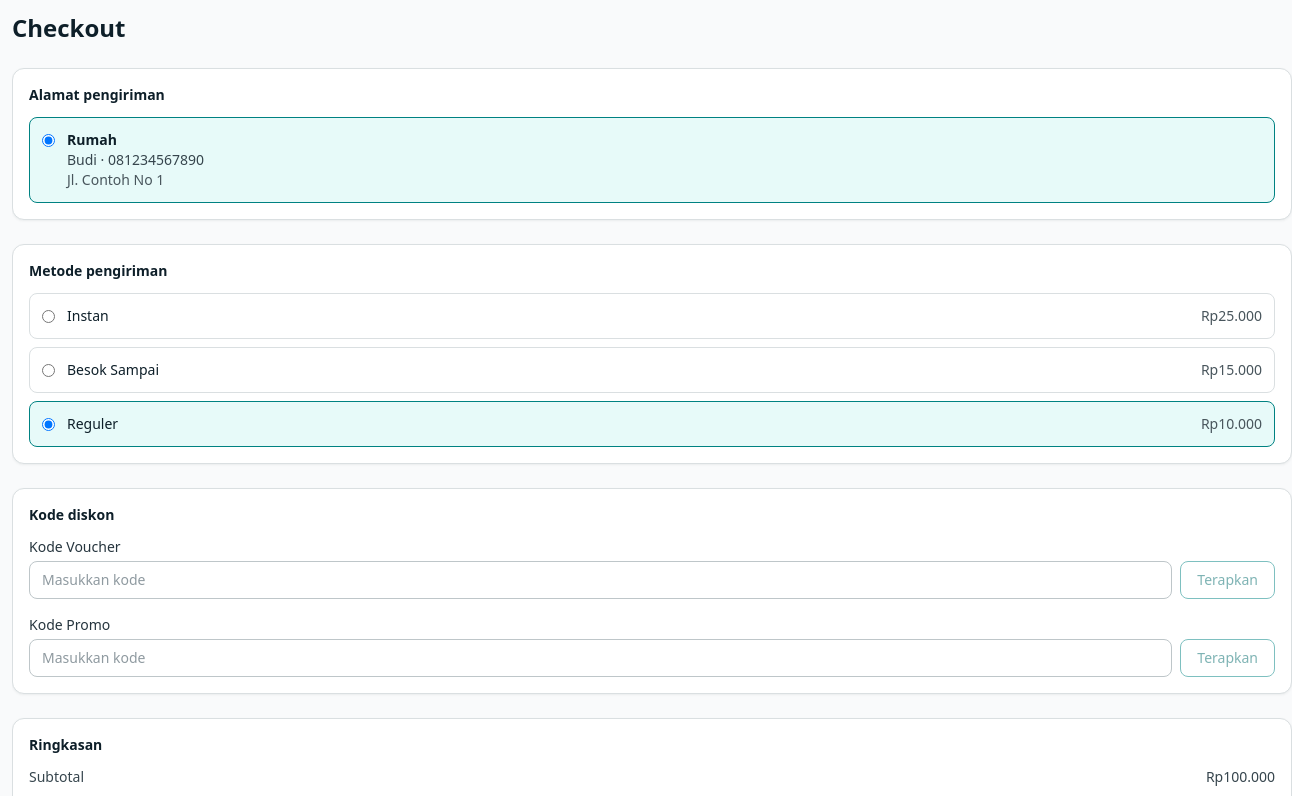
Checkout discount code apply flow › applying a valid voucher shows its effect and passes voucherCode to the preview
Type "hemat10" into the field labelled "Kode Voucher" at [601, 580], box x1=29 y1=561 x2=1172 y2=599
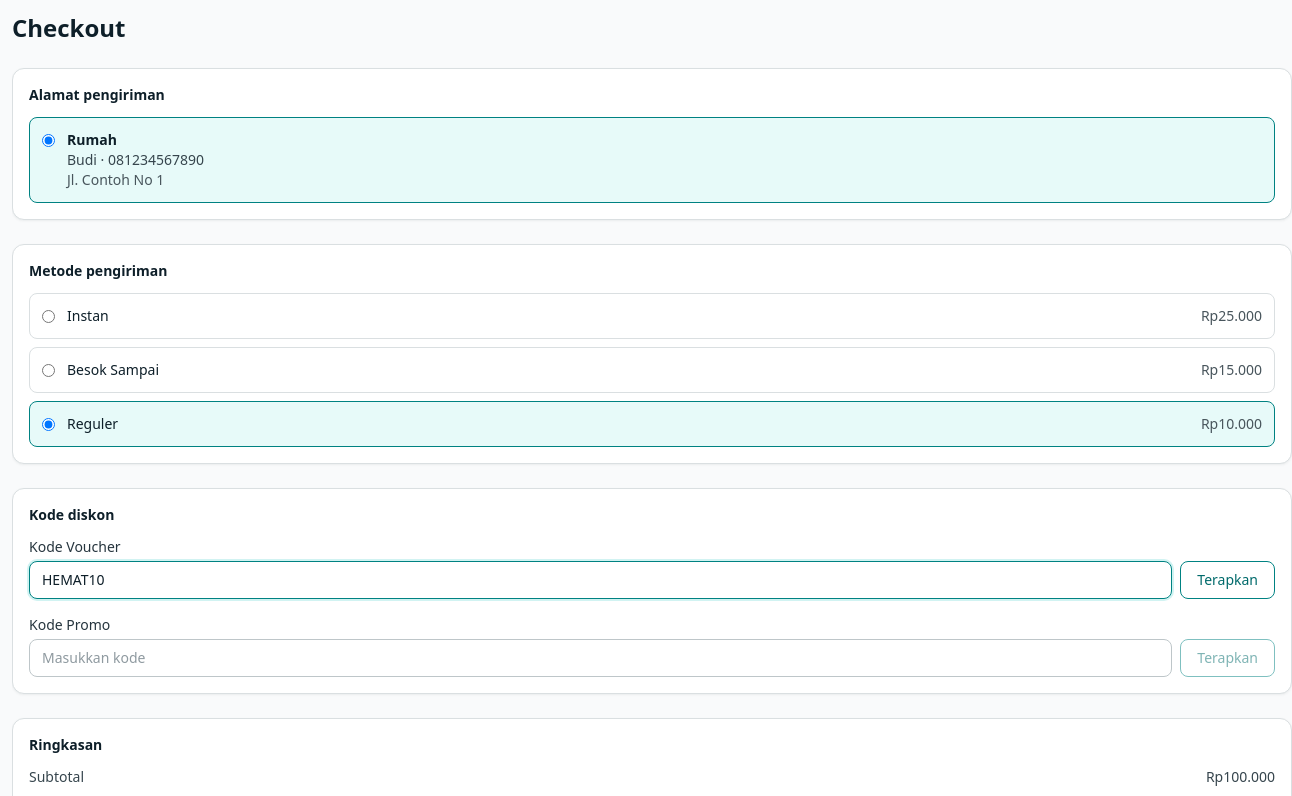
Click the 1st button "Terapkan" at [1228, 580], box x1=1180 y1=561 x2=1275 y2=599
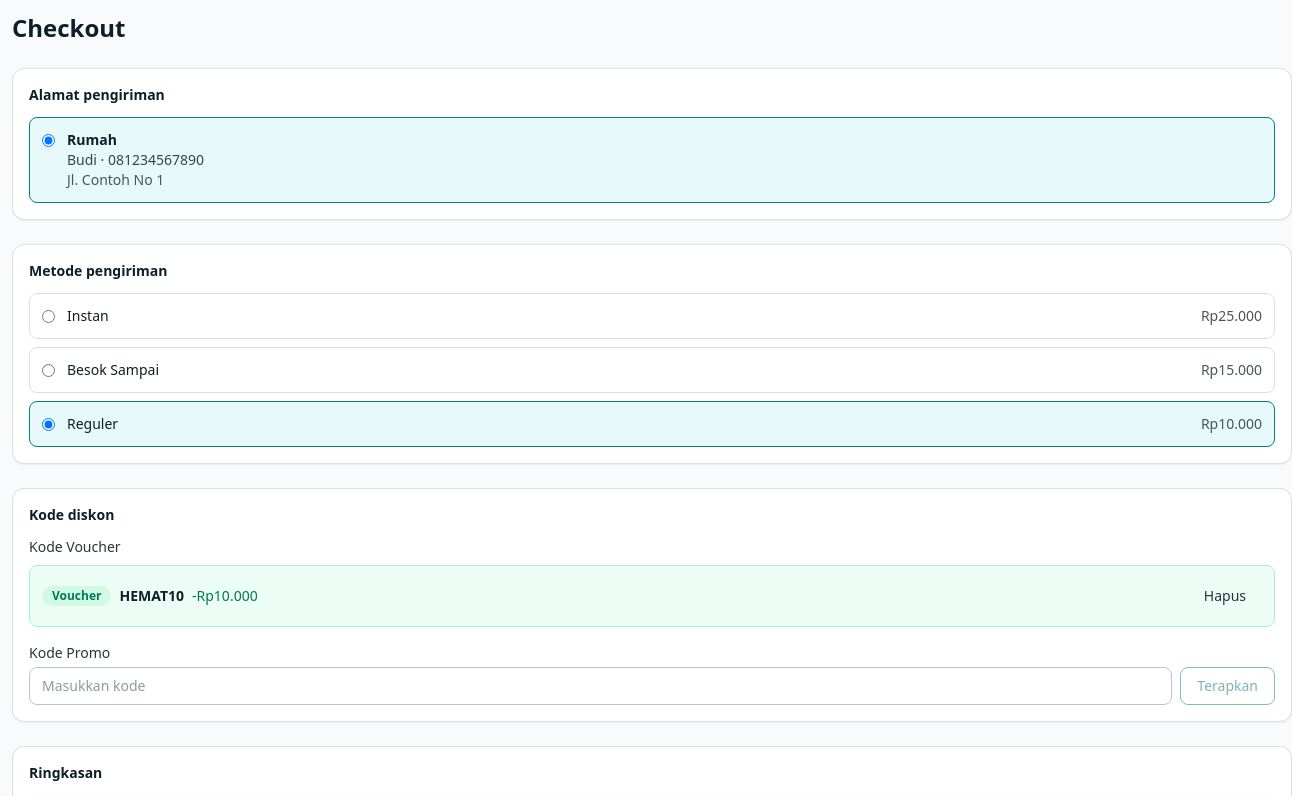
Now the text "HEMAT10" below "Kode Voucher" is shown, box x1=120 y1=586 x2=184 y2=605
Now the text "Voucher" below "Kode Voucher" is shown, box x1=52 y1=587 x2=102 y2=604
Now the text "-Rp10.000" below "Kode Voucher" is shown, box x1=192 y1=586 x2=258 y2=606
